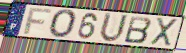6: (77, 12, 100, 41)
B: (123, 16, 153, 45)
F: (22, 7, 53, 36)
O: (48, 9, 79, 40)
U: (97, 12, 129, 44)
X: (149, 17, 179, 48)
